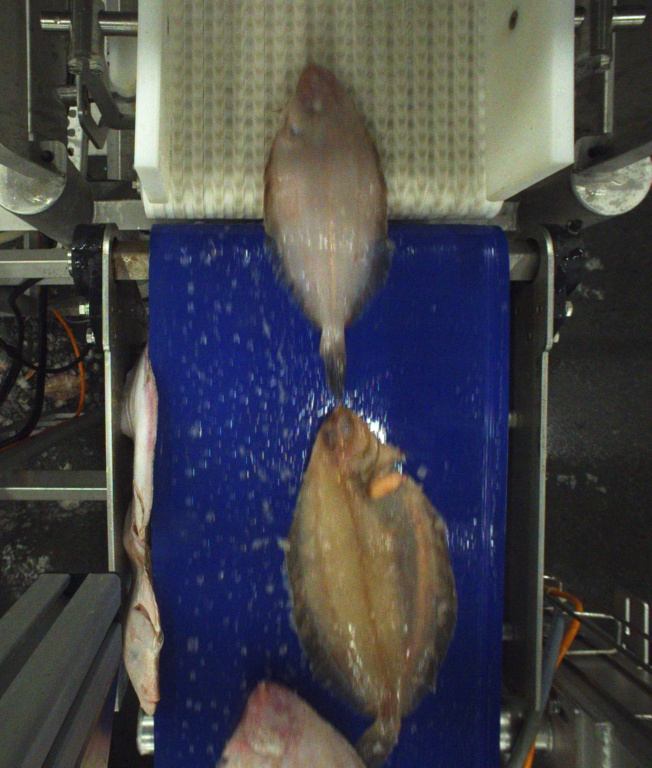WIT: (264, 64, 393, 396)
